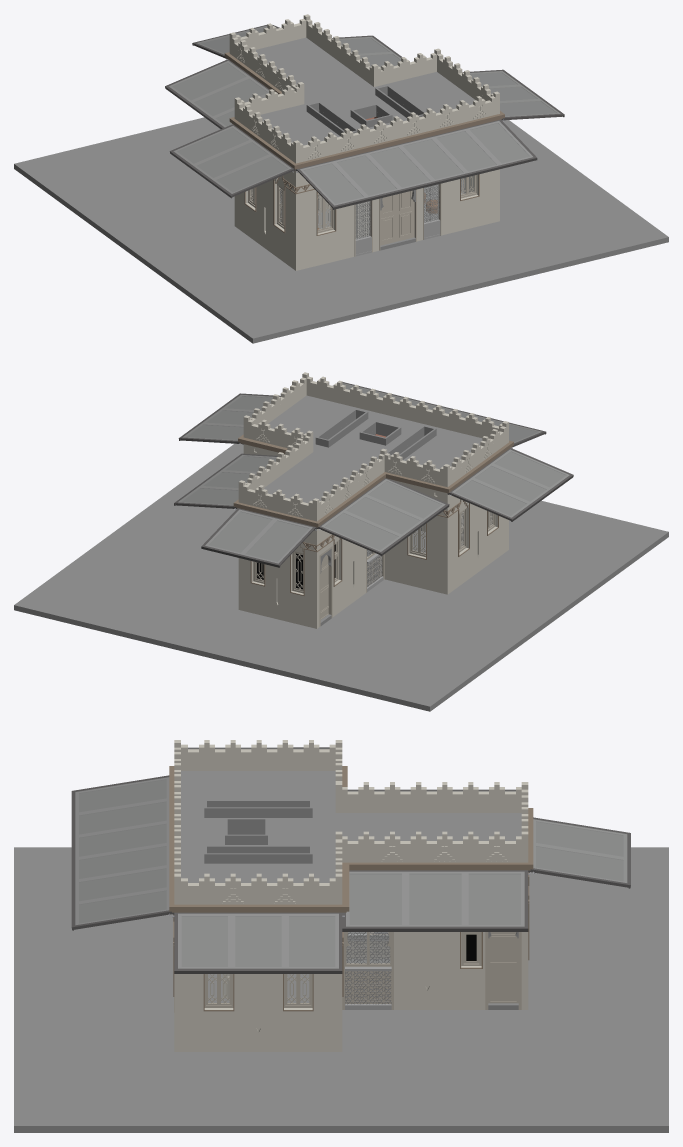
Rendered from kasbah.glb.
The picture shows the model from 3 angles, top to bottom: view 1: azimuth 30°, elevation 25°; view 2: azimuth 150°, elevation 25°; view 3: azimuth 270°, elevation 25°; orthographic projection. The views are drawn at different scales.
Parts seen in each view (by area): view 1: product-ef693964-597c-429b-9e8d-f57bf036552d-body, product-b68fc6dd-1b4a-4e0a-88d1-1079da015186-body, product-6d228080-5638-4e8a-93d4-045df57b12df-body, product-11f192b5-ff54-4d6e-8f0d-a0125631636c-body, product-79878f9d-124f-4c0a-bce0-0ac20eb5c4ad-body, product-101d56a6-5e01-4819-bd94-86723dc5bd56-body, product-73013857-7057-4ec4-b77b-4eb1240bbb05-body, product-ab0b1e2f-176c-485b-9692-1ed12c1b89f0-body, product-8495001d-4fc0-45d1-8dca-3365c10d98a1-body, product-5bd416ee-15e9-4d4e-b79f-3056976182d7-body, product-26007231-e76c-4116-b84c-6513854d44d8-body, product-7094221a-702b-4028-91f1-9c55bb633094-body (+5 smaller); view 2: product-ef693964-597c-429b-9e8d-f57bf036552d-body, product-11f192b5-ff54-4d6e-8f0d-a0125631636c-body, product-35307913-c677-4b06-9d73-9bf8089584a4-body, product-73013857-7057-4ec4-b77b-4eb1240bbb05-body, product-5bd416ee-15e9-4d4e-b79f-3056976182d7-body, product-79878f9d-124f-4c0a-bce0-0ac20eb5c4ad-body, product-7094221a-702b-4028-91f1-9c55bb633094-body, product-101d56a6-5e01-4819-bd94-86723dc5bd56-body, product-1f700fe2-93f5-4c75-8467-b63aaae54698-body, product-26007231-e76c-4116-b84c-6513854d44d8-body, product-ab0b1e2f-176c-485b-9692-1ed12c1b89f0-body, product-6d228080-5638-4e8a-93d4-045df57b12df-body (+3 smaller); view 3: product-ef693964-597c-429b-9e8d-f57bf036552d-body, product-11f192b5-ff54-4d6e-8f0d-a0125631636c-body, product-b68fc6dd-1b4a-4e0a-88d1-1079da015186-body, product-a004a154-cf85-4195-b7ac-1cc256013cea-body, product-26007231-e76c-4116-b84c-6513854d44d8-body, product-ab0b1e2f-176c-485b-9692-1ed12c1b89f0-body, product-64277fc5-a635-4403-9926-b440207cf704-body, product-7094221a-702b-4028-91f1-9c55bb633094-body, product-8495001d-4fc0-45d1-8dca-3365c10d98a1-body, product-1ebf6607-4cda-4bda-871f-d9047f696cce-body, product-101d56a6-5e01-4819-bd94-86723dc5bd56-body, product-1f700fe2-93f5-4c75-8467-b63aaae54698-body (+12 smaller).
Boxes of the visible parts, x1,y1,x2,y2 form: product-ef693964-597c-429b-9e8d-f57bf036552d-body: (14, 117, 668, 343); product-b68fc6dd-1b4a-4e0a-88d1-1079da015186-body: (296, 119, 537, 209); product-6d228080-5638-4e8a-93d4-045df57b12df-body: (293, 103, 499, 270); product-11f192b5-ff54-4d6e-8f0d-a0125631636c-body: (256, 37, 475, 145); product-79878f9d-124f-4c0a-bce0-0ac20eb5c4ad-body: (169, 124, 295, 198); product-101d56a6-5e01-4819-bd94-86723dc5bd56-body: (237, 110, 293, 268); product-73013857-7057-4ec4-b77b-4eb1240bbb05-body: (165, 59, 269, 128); product-ab0b1e2f-176c-485b-9692-1ed12c1b89f0-body: (462, 69, 564, 120); product-8495001d-4fc0-45d1-8dca-3365c10d98a1-body: (224, 52, 504, 168); product-5bd416ee-15e9-4d4e-b79f-3056976182d7-body: (234, 61, 436, 227); product-26007231-e76c-4116-b84c-6513854d44d8-body: (332, 35, 402, 67); product-7094221a-702b-4028-91f1-9c55bb633094-body: (192, 25, 279, 59); product-ef693964-597c-429b-9e8d-f57bf036552d-body: (14, 443, 668, 711); product-11f192b5-ff54-4d6e-8f0d-a0125631636c-body: (264, 395, 482, 503); product-35307913-c677-4b06-9d73-9bf8089584a4-body: (238, 492, 319, 628); product-73013857-7057-4ec4-b77b-4eb1240bbb05-body: (317, 478, 449, 556); product-5bd416ee-15e9-4d4e-b79f-3056976182d7-body: (243, 427, 449, 594); product-79878f9d-124f-4c0a-bce0-0ac20eb5c4ad-body: (447, 448, 573, 521); product-7094221a-702b-4028-91f1-9c55bb633094-body: (201, 508, 316, 567); product-101d56a6-5e01-4819-bd94-86723dc5bd56-body: (450, 434, 506, 592); product-1f700fe2-93f5-4c75-8467-b63aaae54698-body: (319, 475, 365, 616); product-26007231-e76c-4116-b84c-6513854d44d8-body: (174, 453, 277, 509); product-ab0b1e2f-176c-485b-9692-1ed12c1b89f0-body: (178, 393, 280, 444); product-6d228080-5638-4e8a-93d4-045df57b12df-body: (306, 385, 508, 551); product-ef693964-597c-429b-9e8d-f57bf036552d-body: (14, 847, 668, 1132); product-11f192b5-ff54-4d6e-8f0d-a0125631636c-body: (181, 771, 521, 882); product-b68fc6dd-1b4a-4e0a-88d1-1079da015186-body: (71, 775, 174, 930); product-a004a154-cf85-4195-b7ac-1cc256013cea-body: (181, 890, 335, 1051); product-26007231-e76c-4116-b84c-6513854d44d8-body: (342, 870, 530, 931); product-ab0b1e2f-176c-485b-9692-1ed12c1b89f0-body: (172, 912, 344, 973); product-64277fc5-a635-4403-9926-b440207cf704-body: (394, 848, 521, 1009); product-7094221a-702b-4028-91f1-9c55bb633094-body: (528, 817, 630, 888); product-8495001d-4fc0-45d1-8dca-3365c10d98a1-body: (169, 766, 533, 911); product-1ebf6607-4cda-4bda-871f-d9047f696cce-body: (488, 932, 518, 1003); product-101d56a6-5e01-4819-bd94-86723dc5bd56-body: (181, 757, 335, 770); product-1f700fe2-93f5-4c75-8467-b63aaae54698-body: (394, 799, 521, 812).
Size of the model in its own units: 12.77 by 3.9 by 12.69.
